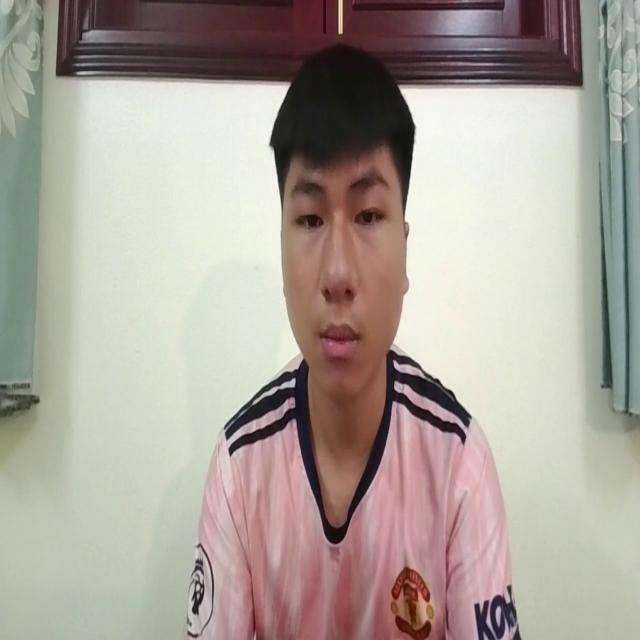student: (187, 34, 522, 640)
